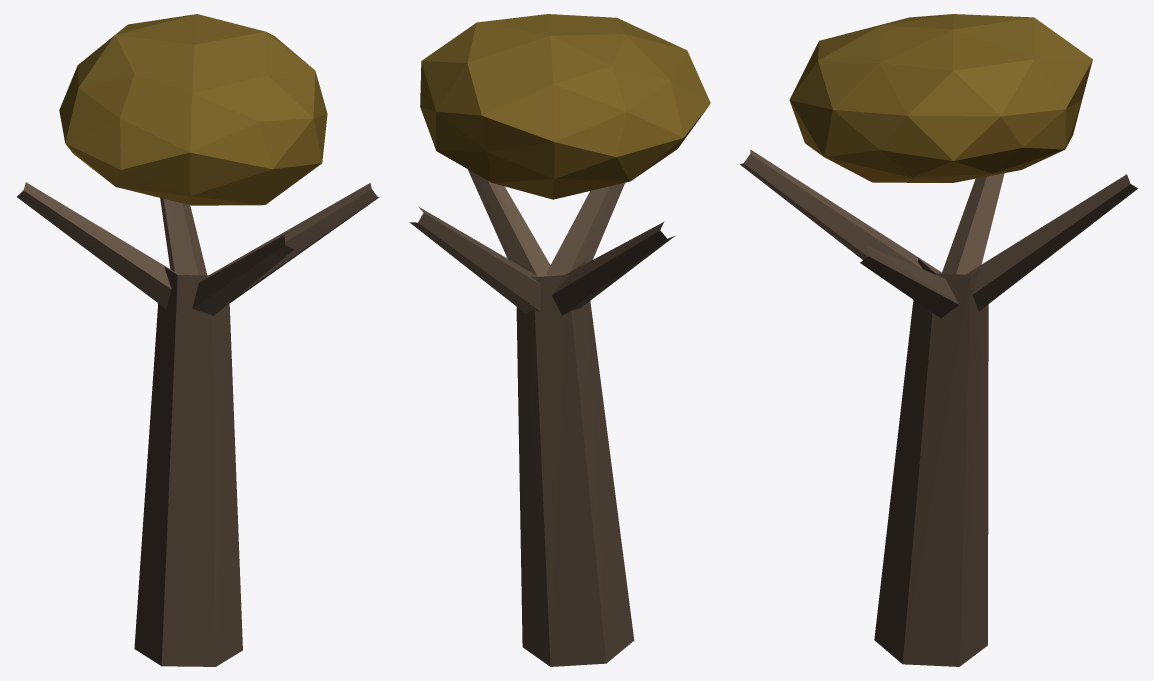
Rendered from 0920-Forest-trees-painted-woods-ipeYellow-1.glb.
3 renders of one model, left to right at view 1: azimuth 30°, elevation 25°; view 2: azimuth 150°, elevation 25°; view 3: azimuth 270°, elevation 25°, orthographic. The views are drawn at different scales.
Parts seen in each view (by area): view 1: Forest trees (painted woods)/ipeYellow/1; view 2: Forest trees (painted woods)/ipeYellow/1; view 3: Forest trees (painted woods)/ipeYellow/1.
Part boxes in pixels (box(x1,y1,x2,y2)): Forest trees (painted woods)/ipeYellow/1: box(17, 14, 379, 666); Forest trees (painted woods)/ipeYellow/1: box(409, 14, 710, 666); Forest trees (painted woods)/ipeYellow/1: box(740, 14, 1137, 666).
Size of the model in its own units: 0.3468 by 0.6789 by 0.3937.
